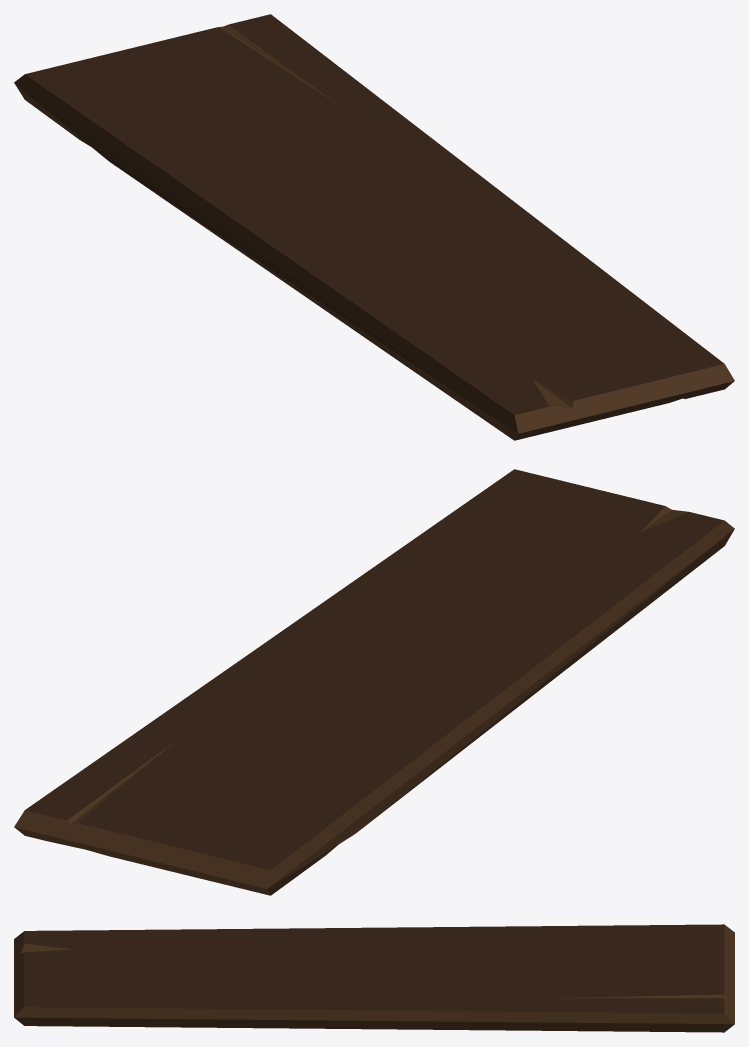
The model's file is Cave_Lair_Wooden_Timber_Plank_Large_03.fbx.
The picture shows the model from 3 angles, top to bottom: view 1: azimuth 30°, elevation 25°; view 2: azimuth 150°, elevation 25°; view 3: azimuth 270°, elevation 25°; orthographic projection. The views are drawn at different scales.
Visible parts, largest first — view 1: Cave_Lair_Wooden_Timber_Plank_Large_03; view 2: Cave_Lair_Wooden_Timber_Plank_Large_03; view 3: Cave_Lair_Wooden_Timber_Plank_Large_03.
Boxes of the visible parts, bbox=[...] form: Cave_Lair_Wooden_Timber_Plank_Large_03: bbox=[14, 14, 734, 440]; Cave_Lair_Wooden_Timber_Plank_Large_03: bbox=[14, 469, 734, 895]; Cave_Lair_Wooden_Timber_Plank_Large_03: bbox=[14, 924, 734, 1032].
Bounding box in the file's own units: 1.07 × 0.103 × 3.55.
